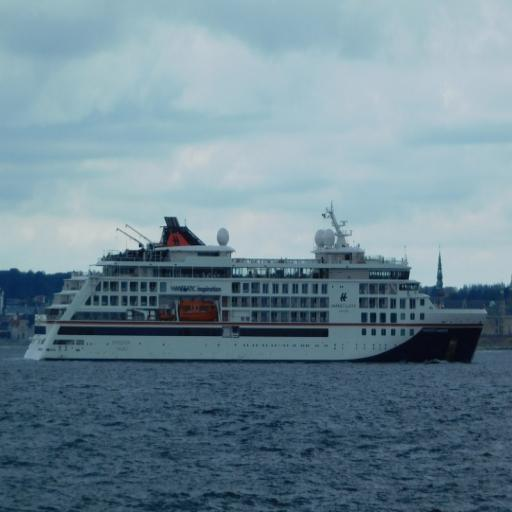cruises: (22, 199, 491, 372)
